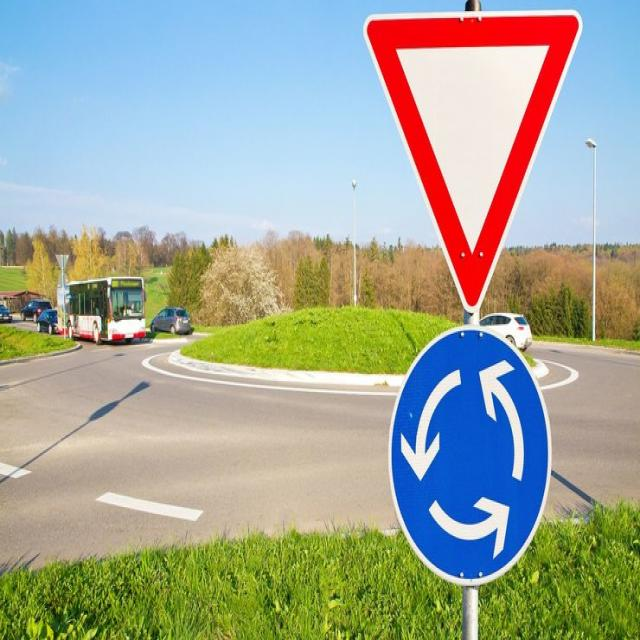roundabout: (389, 327, 551, 590)
